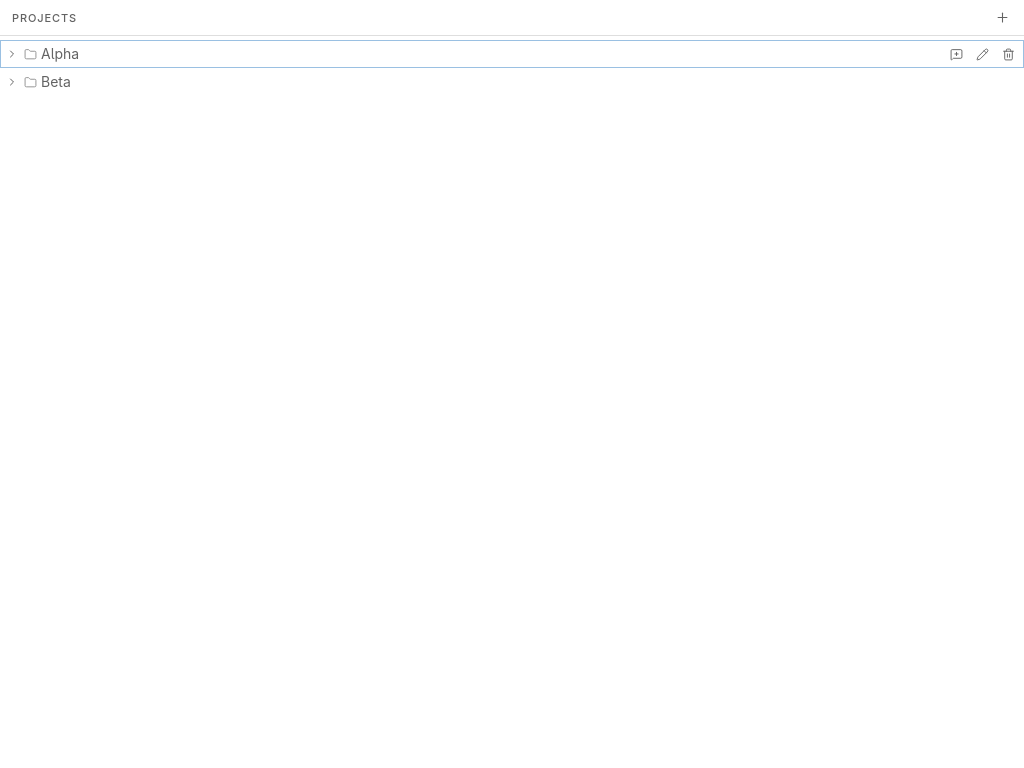
it: ProjectTree › asks for confirmation before deleting
The width and height of the screenshot is (1024, 768).
Expected: the list item "Alpha" is shown, [0, 40, 1023, 68]
Click the button named "delete alpha" at point(1008, 54), box [996, 42, 1020, 66]
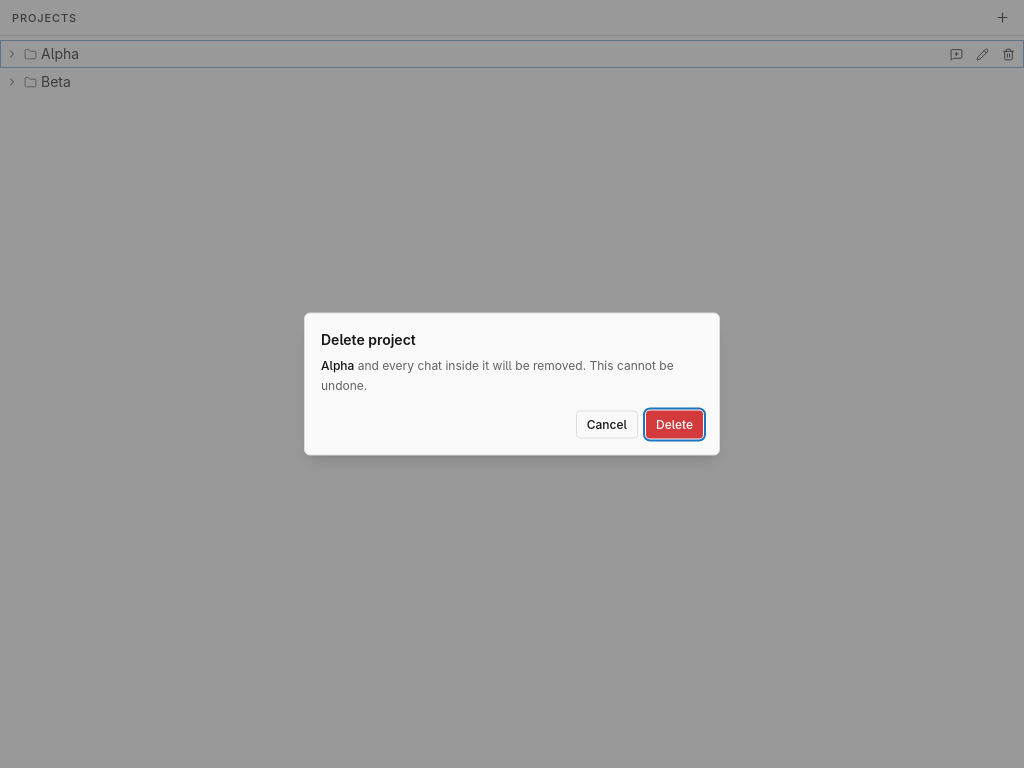
Now the text "Alpha" is shown, box [321, 358, 354, 372]
Click the button "Delete" at point(674, 424), box [646, 410, 703, 438]
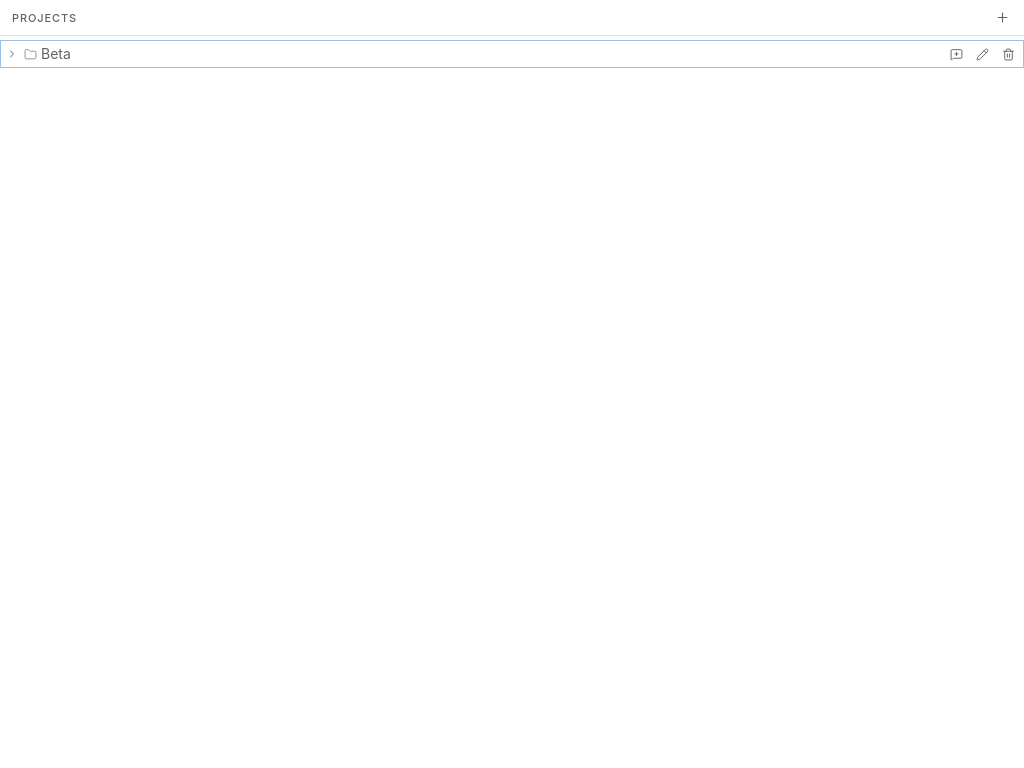
Now the text "Alpha" is gone
